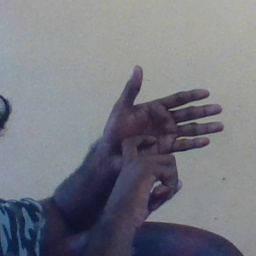R: (102, 58, 231, 209)
